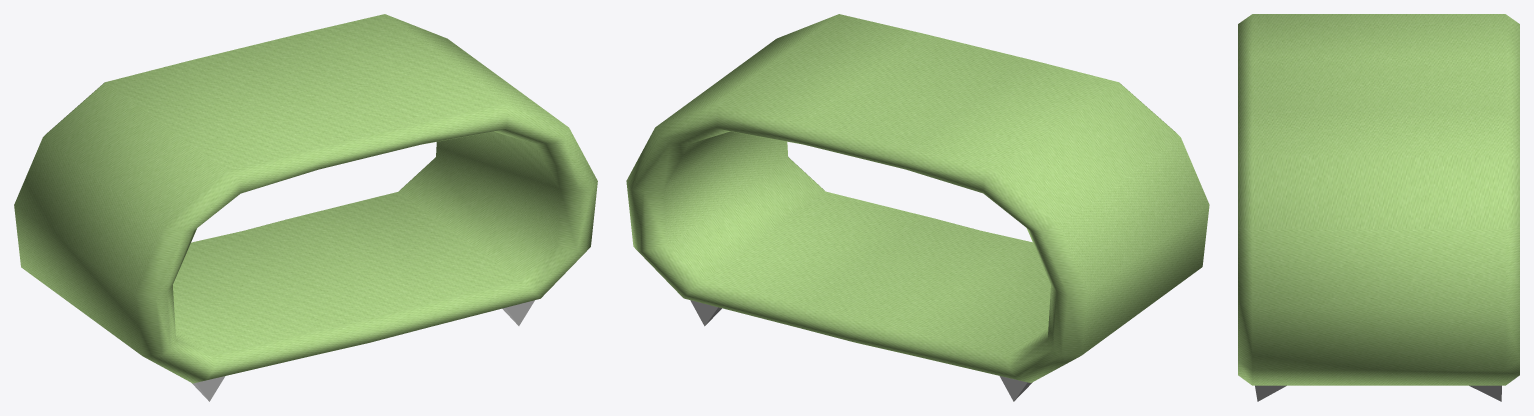
File: Open_Stool_E_2.FBX
3 renders of one model, left to right at view 1: azimuth 30°, elevation 25°; view 2: azimuth 150°, elevation 25°; view 3: azimuth 270°, elevation 25°, orthographic. The views are drawn at different scales.
Visible parts, largest first — view 1: Stool_01; view 2: Stool_01; view 3: Stool_01.
Part boxes in pixels (x1,y1,x2,y2): Stool_01: [14, 14, 597, 401]; Stool_01: [626, 14, 1209, 401]; Stool_01: [1238, 14, 1519, 401].
Size of the model in its own units: 172 by 81.63 by 87.07.
